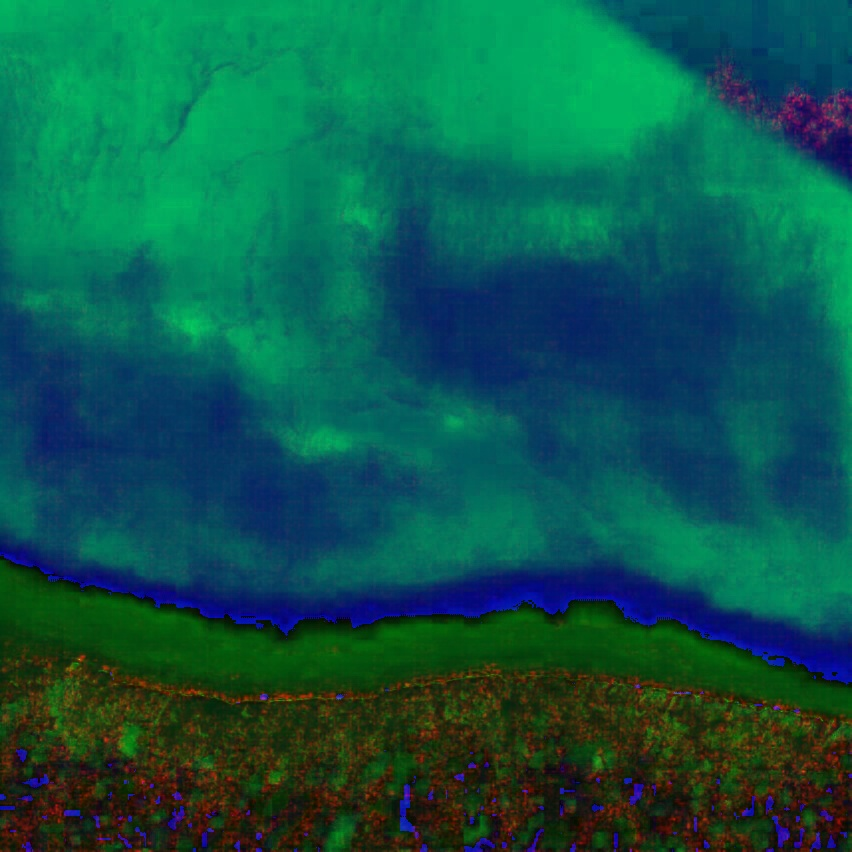rip_current: (98, 134, 552, 540)
